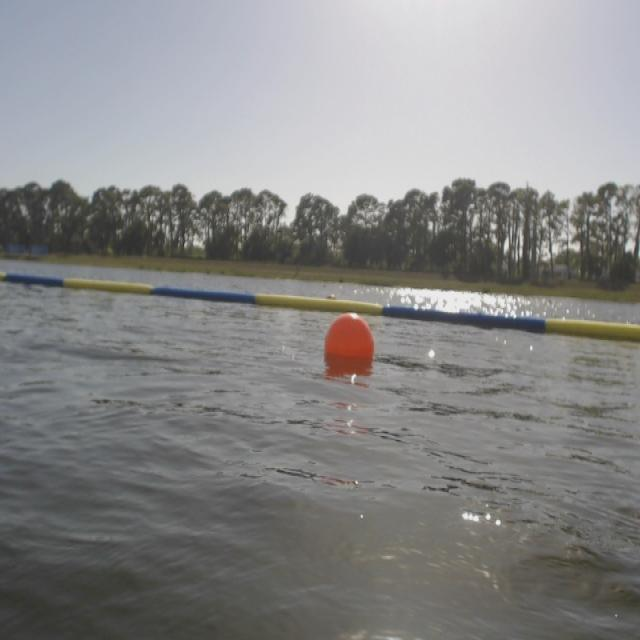Orange__Buoy: (325, 312, 372, 377)
